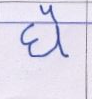ai_matra: (39, 4, 61, 22)
